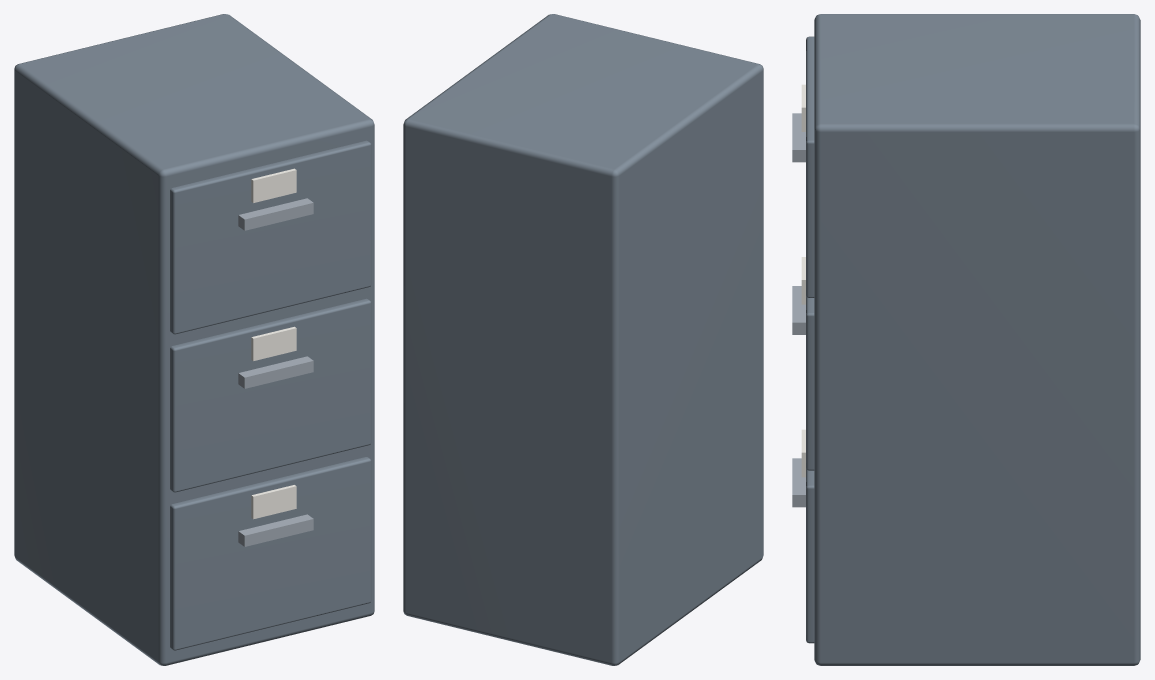
The model's file is FileCabinet.fbx.
The picture shows the model from 3 angles, left to right: view 1: azimuth 30°, elevation 25°; view 2: azimuth 150°, elevation 25°; view 3: azimuth 270°, elevation 25°; orthographic projection. The views are drawn at different scales.
Visible parts, largest first — view 1: FileCabinetBody; view 2: FileCabinetBody; view 3: FileCabinetBody.
Boxes of the visible parts, left/top/right/bottom form: FileCabinetBody: left=14, top=14, right=374, bottom=665; FileCabinetBody: left=403, top=14, right=763, bottom=665; FileCabinetBody: left=792, top=14, right=1140, bottom=665.
Size of the model in its own units: 0.5 by 1.1 by 0.64.
